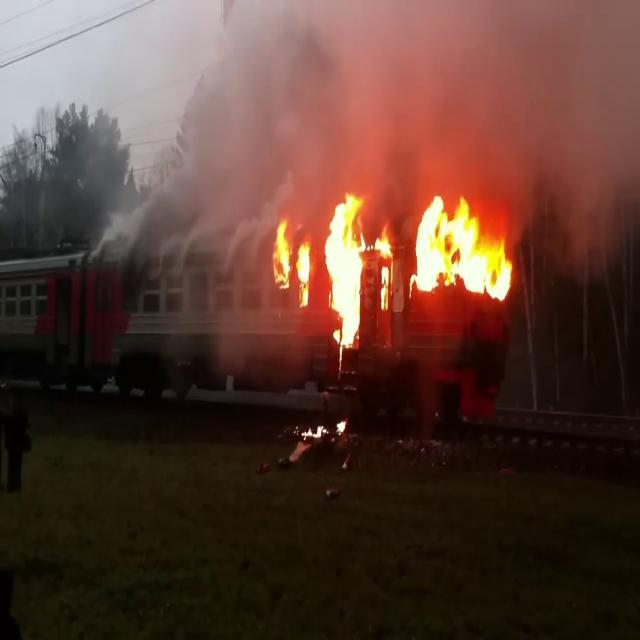Fire: (409, 190, 516, 304), (322, 191, 369, 348), (271, 215, 314, 306), (293, 411, 349, 449)
Smoke: (206, 1, 640, 210)
